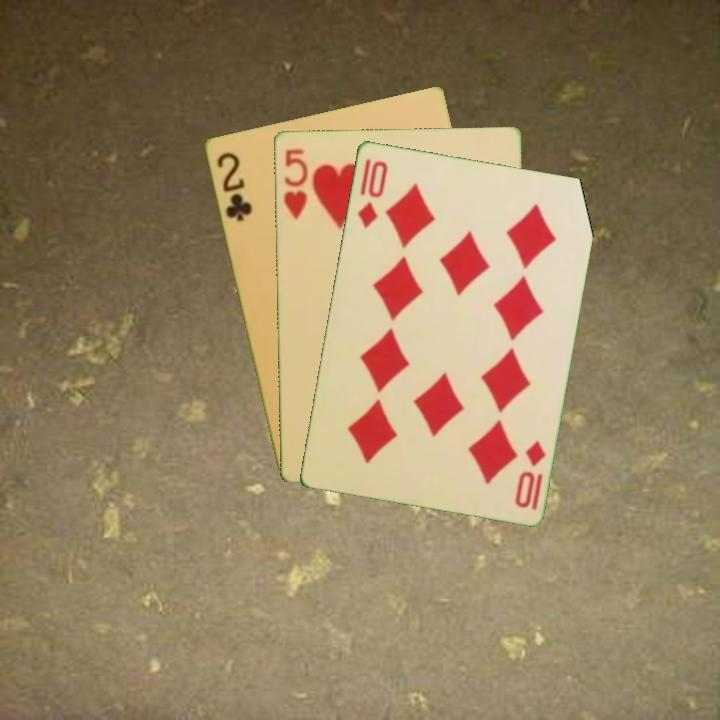10d: (511, 436, 548, 512), (353, 156, 390, 231)
2c: (212, 148, 255, 224)
5h: (280, 145, 310, 221)
